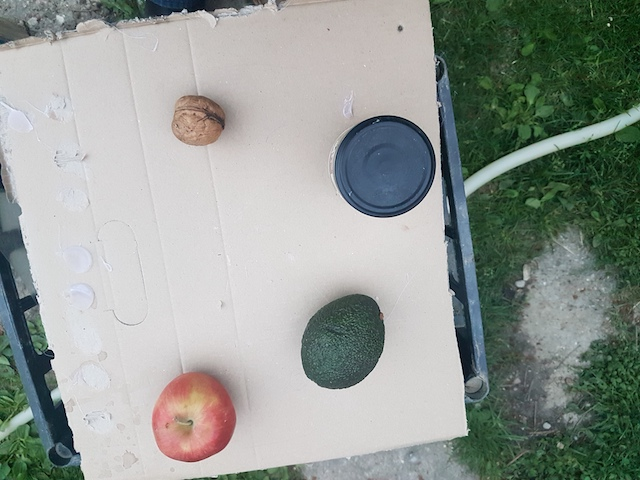apple: (146, 369, 241, 465)
avocado: (297, 295, 387, 399)
nut: (168, 94, 230, 148)
recipient: (330, 113, 435, 219)
